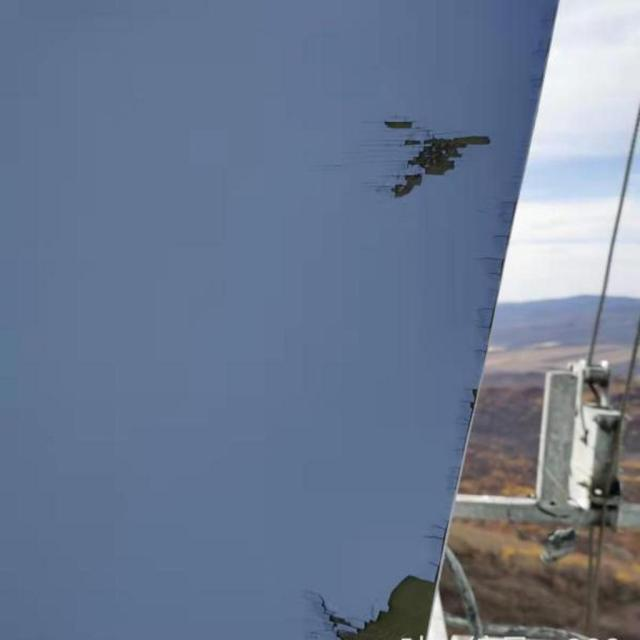surface_peeling: (384, 119, 489, 201), (314, 579, 441, 639)
